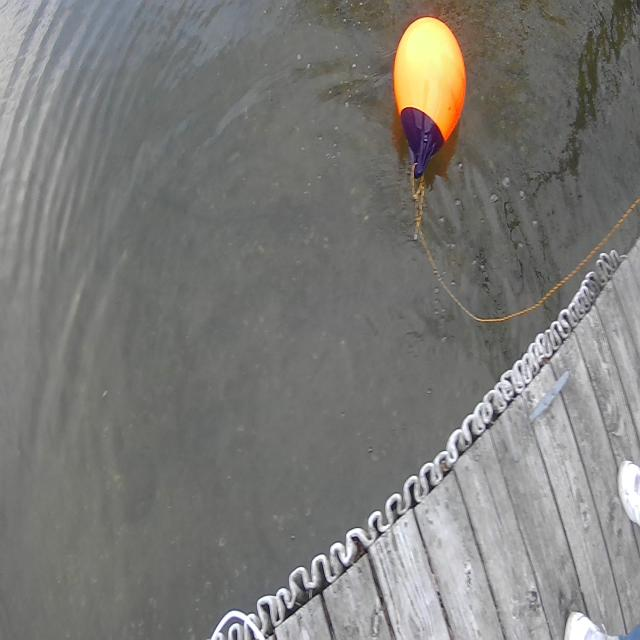Buoy: (387, 9, 474, 190)
